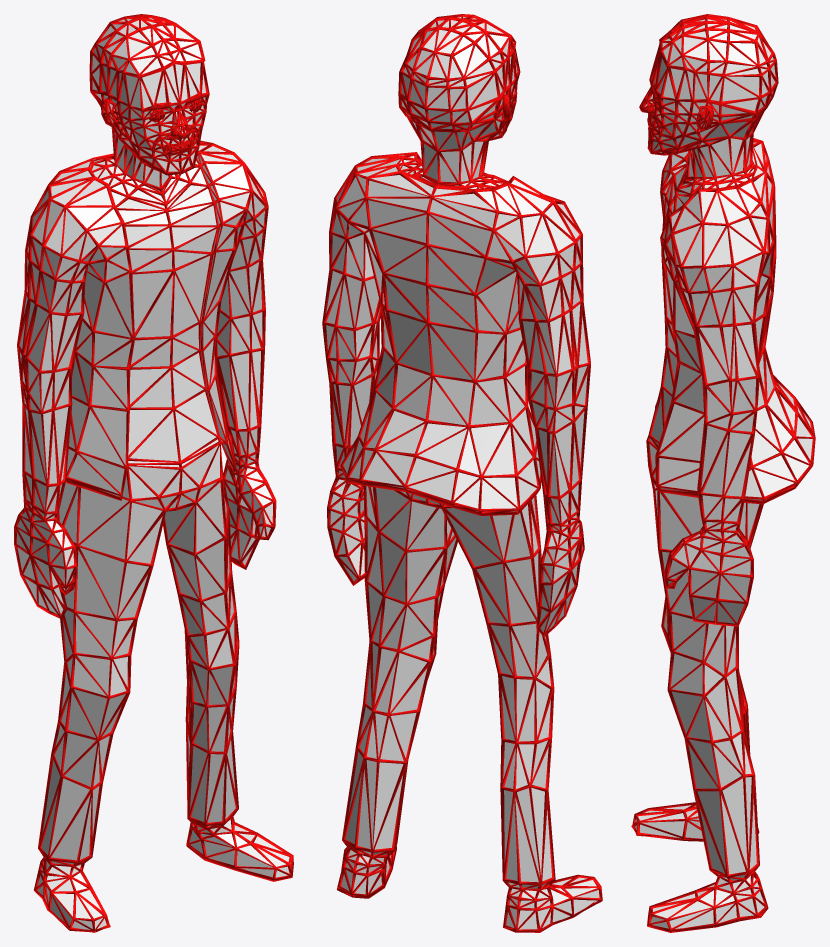
Rendered from elegantIdle_000025.obj.
3 views of the same model, side by side, from view 1: azimuth 30°, elevation 25°; view 2: azimuth 150°, elevation 25°; view 3: azimuth 270°, elevation 25° (orthographic). The views are drawn at different scales.
Parts seen in each view (by area): view 1: BaseHuman_Cylinder.002; view 2: BaseHuman_Cylinder.002; view 3: BaseHuman_Cylinder.002.
Boxes of the visible parts, left/top/right/bottom form: BaseHuman_Cylinder.002: left=14, top=14, right=293, bottom=932; BaseHuman_Cylinder.002: left=322, top=14, right=602, bottom=932; BaseHuman_Cylinder.002: left=631, top=14, right=815, bottom=932.
Bounding box in the file's own units: 1.44 × 4.84 × 0.9487.
